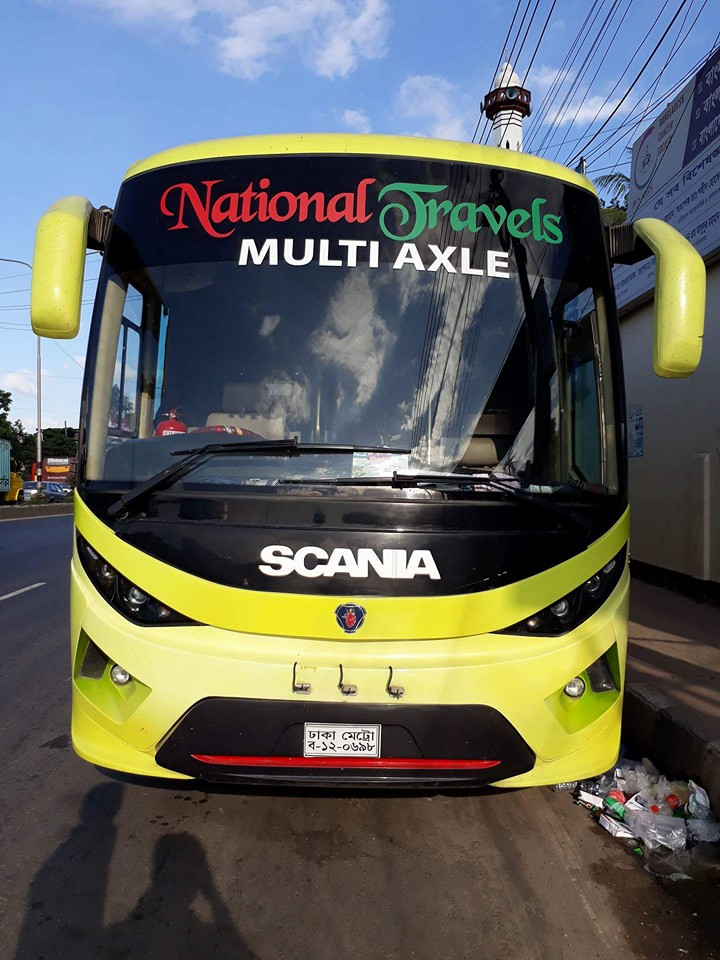bus: (45, 130, 703, 793)
